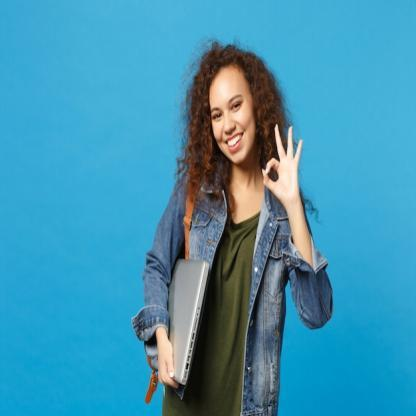ok: (258, 119, 306, 211)
